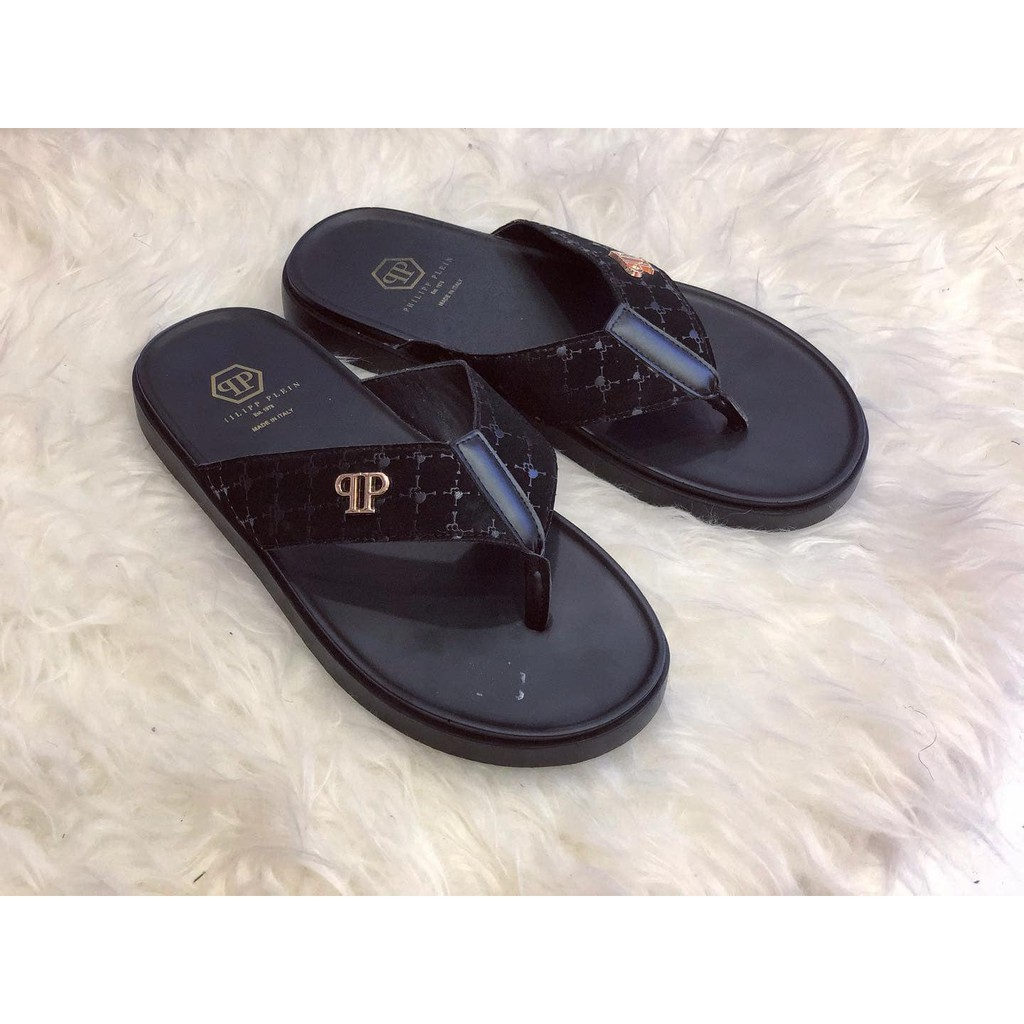flip_flops: (130, 305, 673, 766), (280, 202, 868, 528)
